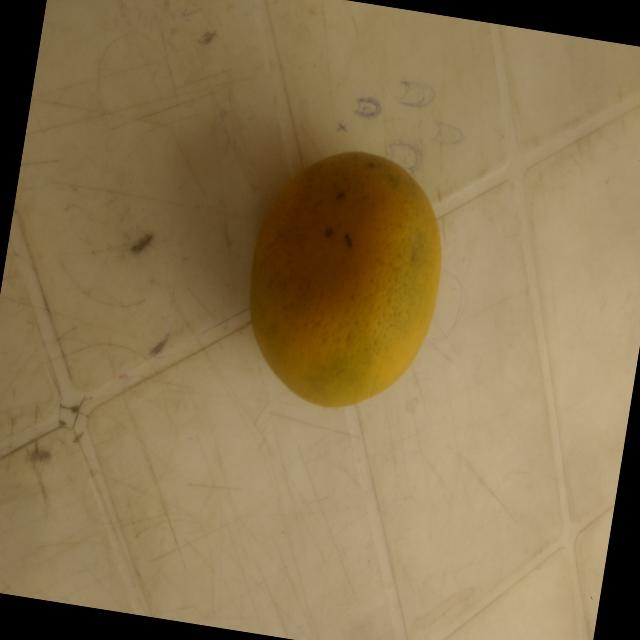agrume: (214, 120, 463, 448)
